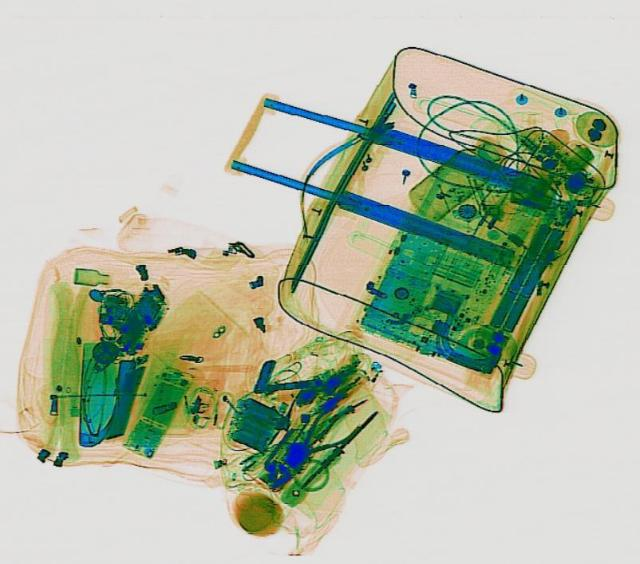Pliers: (266, 401, 362, 480)
